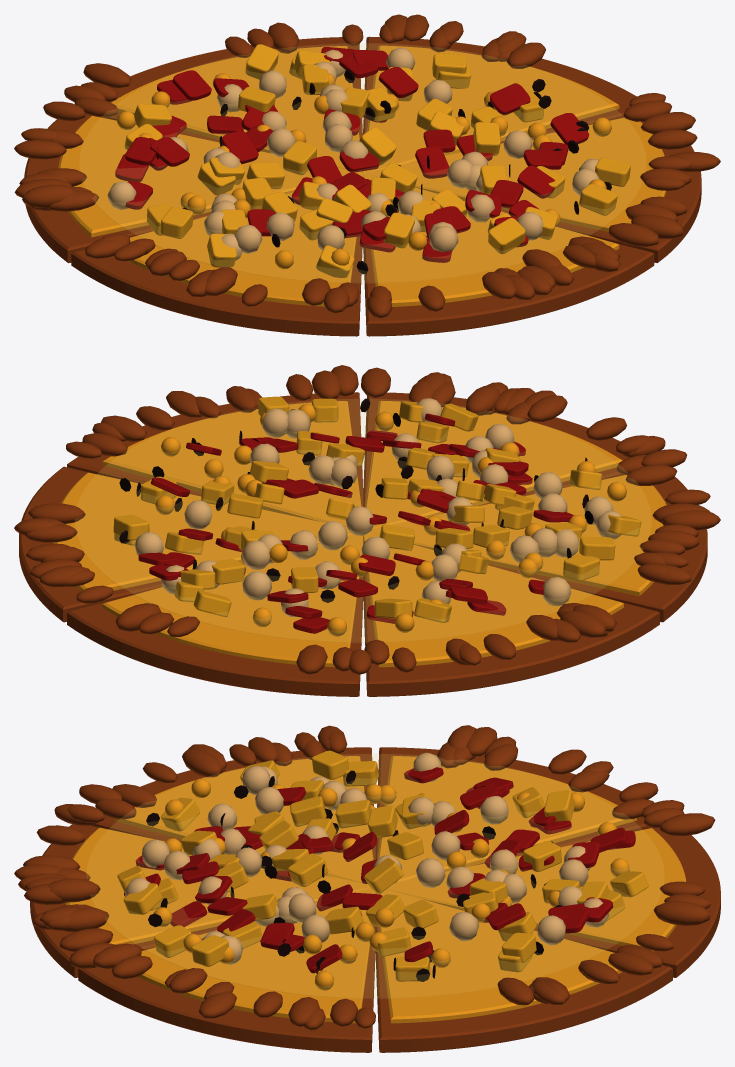
Rendered from orinscare_pizza_v6_realistic.glb.
The picture shows the model from 3 angles, top to bottom: view 1: azimuth 30°, elevation 25°; view 2: azimuth 150°, elevation 25°; view 3: azimuth 270°, elevation 25°; orthographic projection.
Visible parts, largest first — view 1: uneven_melted_cheese_surface (×6), subtle_oil_sheen_thin_uneven_surface, baked_dough_wedge_body (×6), pineapple_chunk_192, lumpy_raised_crust_piece_2, pineapple_chunk_145, lumpy_raised_crust_piece_45, red_pepper_piece_52, lumpy_raised_crust_piece_62, lumpy_raised_crust_piece_58, red_pepper_piece_121, pineapple_chunk_79 (+77 smaller); view 2: uneven_melted_cheese_surface (×6), subtle_oil_sheen_thin_uneven_surface, baked_dough_wedge_body (×6), lumpy_raised_crust_piece_9, lumpy_raised_crust_piece_34, lumpy_raised_crust_piece_40, pineapple_chunk_32, lumpy_raised_crust_piece_71, lumpy_raised_crust_piece_22, lumpy_raised_crust_piece_47, pineapple_chunk_79, lumpy_raised_crust_piece_0 (+65 smaller); view 3: uneven_melted_cheese_surface (×6), subtle_oil_sheen_thin_uneven_surface, baked_dough_wedge_body (×6), lumpy_raised_crust_piece_71, lumpy_raised_crust_piece_58, lumpy_raised_crust_piece_0, pineapple_chunk_165, pineapple_chunk_127, pineapple_chunk_149, lumpy_raised_crust_piece_66, pineapple_chunk_141, lumpy_raised_crust_piece_2 (+76 smaller).
Part boxes in pixels (box(x1,y1,x2,y2)): uneven_melted_cheese_surface (×6): box(58, 45, 666, 306); subtle_oil_sheen_thin_uneven_surface: box(80, 44, 645, 282); baked_dough_wedge_body (×6): box(24, 36, 701, 336); pineapple_chunk_192: box(488, 218, 525, 254); lumpy_raised_crust_piece_2: box(609, 223, 658, 246); pineapple_chunk_145: box(579, 184, 617, 215); lumpy_raised_crust_piece_45: box(22, 184, 75, 208); red_pepper_piece_52: box(490, 83, 530, 115); lumpy_raised_crust_piece_62: box(641, 112, 695, 134); lumpy_raised_crust_piece_58: box(83, 63, 131, 88); red_pepper_piece_121: box(415, 146, 448, 178); pineapple_chunk_79: box(160, 207, 193, 238); uneven_melted_cheese_surface (×6): box(53, 400, 666, 667); subtle_oil_sheen_thin_uneven_surface: box(75, 399, 650, 642); baked_dough_wedge_body (×6): box(19, 392, 707, 696); lumpy_raised_crust_piece_9: box(625, 465, 677, 485); lumpy_raised_crust_piece_34: box(28, 503, 85, 523); lumpy_raised_crust_piece_40: box(661, 510, 720, 530); pineapple_chunk_32: box(563, 554, 599, 580); lumpy_raised_crust_piece_71: box(115, 603, 161, 631); lumpy_raised_crust_piece_22: box(527, 395, 567, 421); lumpy_raised_crust_piece_47: box(560, 610, 606, 637); pineapple_chunk_79: box(579, 536, 615, 560); lumpy_raised_crust_piece_0: box(466, 385, 499, 415); uneven_melted_cheese_surface (×6): box(65, 756, 686, 1023); subtle_oil_sheen_thin_uneven_surface: box(87, 754, 663, 998); baked_dough_wedge_body (×6): box(30, 747, 720, 1052); lumpy_raised_crust_piece_71: box(653, 901, 710, 925); lumpy_raised_crust_piece_58: box(660, 813, 715, 835); lumpy_raised_crust_piece_0: box(48, 878, 100, 902); pineapple_chunk_165: box(288, 853, 328, 886); pineapple_chunk_127: box(191, 935, 228, 966); pineapple_chunk_149: box(364, 857, 403, 893); lumpy_raised_crust_piece_66: box(182, 748, 222, 777); pineapple_chunk_141: box(335, 800, 371, 828); lumpy_raised_crust_piece_2: box(59, 928, 112, 951).
Size of the model in its own units: 4.19 by 0.3666 by 4.21.
